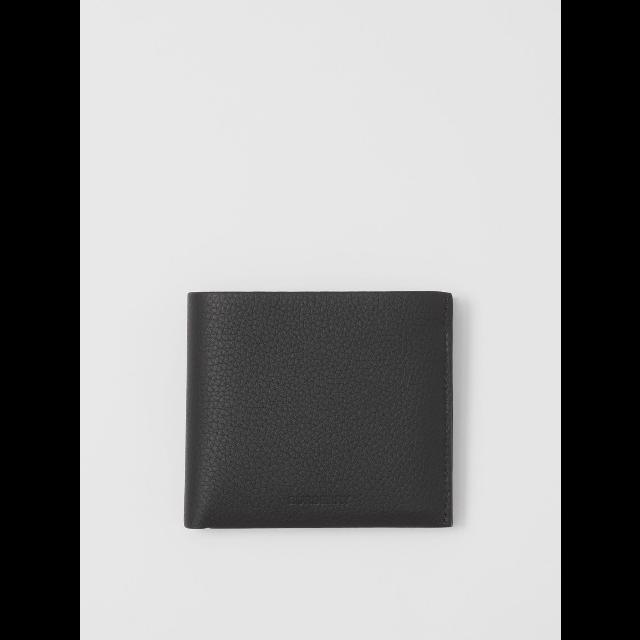Wallet: (185, 292, 452, 528)
